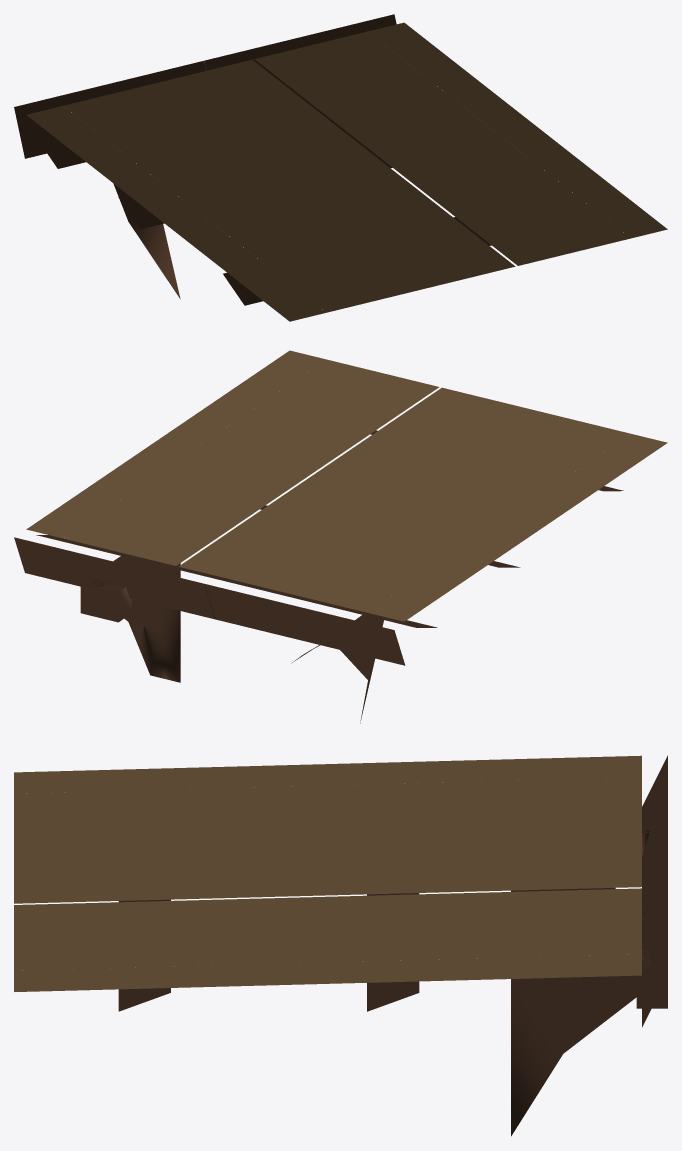
The model's file is floor_jetty_lod1.glb.
3 views of the same model, one above another, from view 1: azimuth 30°, elevation 25°; view 2: azimuth 150°, elevation 25°; view 3: azimuth 270°, elevation 25° (orthographic). The views are drawn at different scales.
Bounding box in the file's own units: 2 × 0.85 × 2.5.
